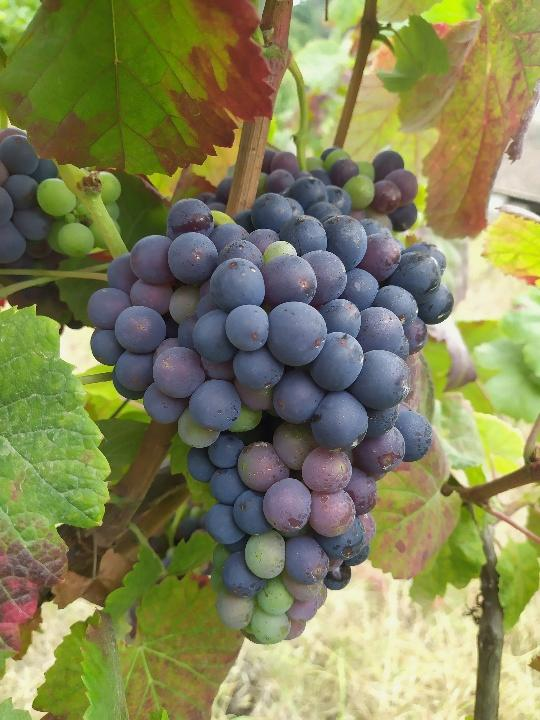grape: (85, 191, 454, 643)
